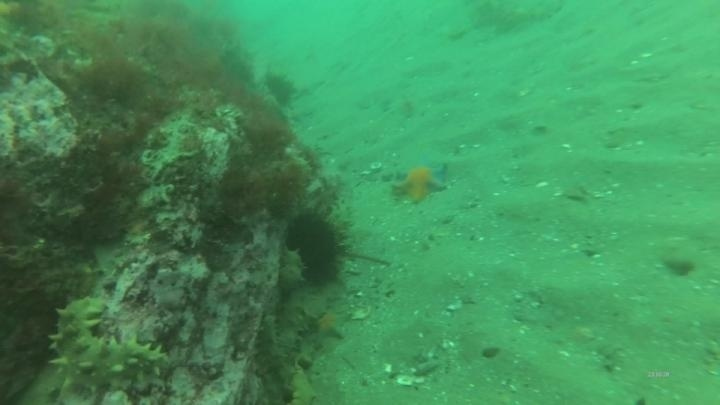echinus: (280, 205, 354, 289), (260, 69, 299, 110)
holothurian: (44, 291, 171, 399), (250, 310, 299, 404), (275, 242, 309, 294)
starfish: (391, 155, 451, 206), (309, 305, 351, 345)
